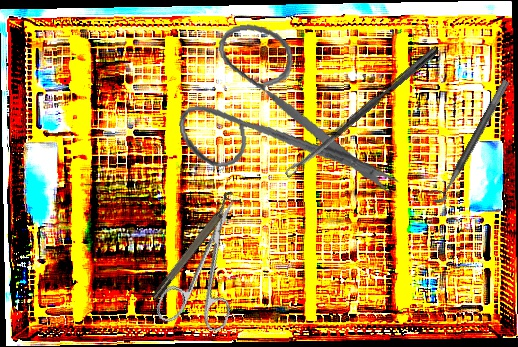Fixation Ring: (424, 73, 511, 207), (145, 189, 242, 302)
Iris Scissors: (166, 6, 405, 224), (153, 186, 266, 341)
Surgical Spoon: (283, 44, 440, 179)
